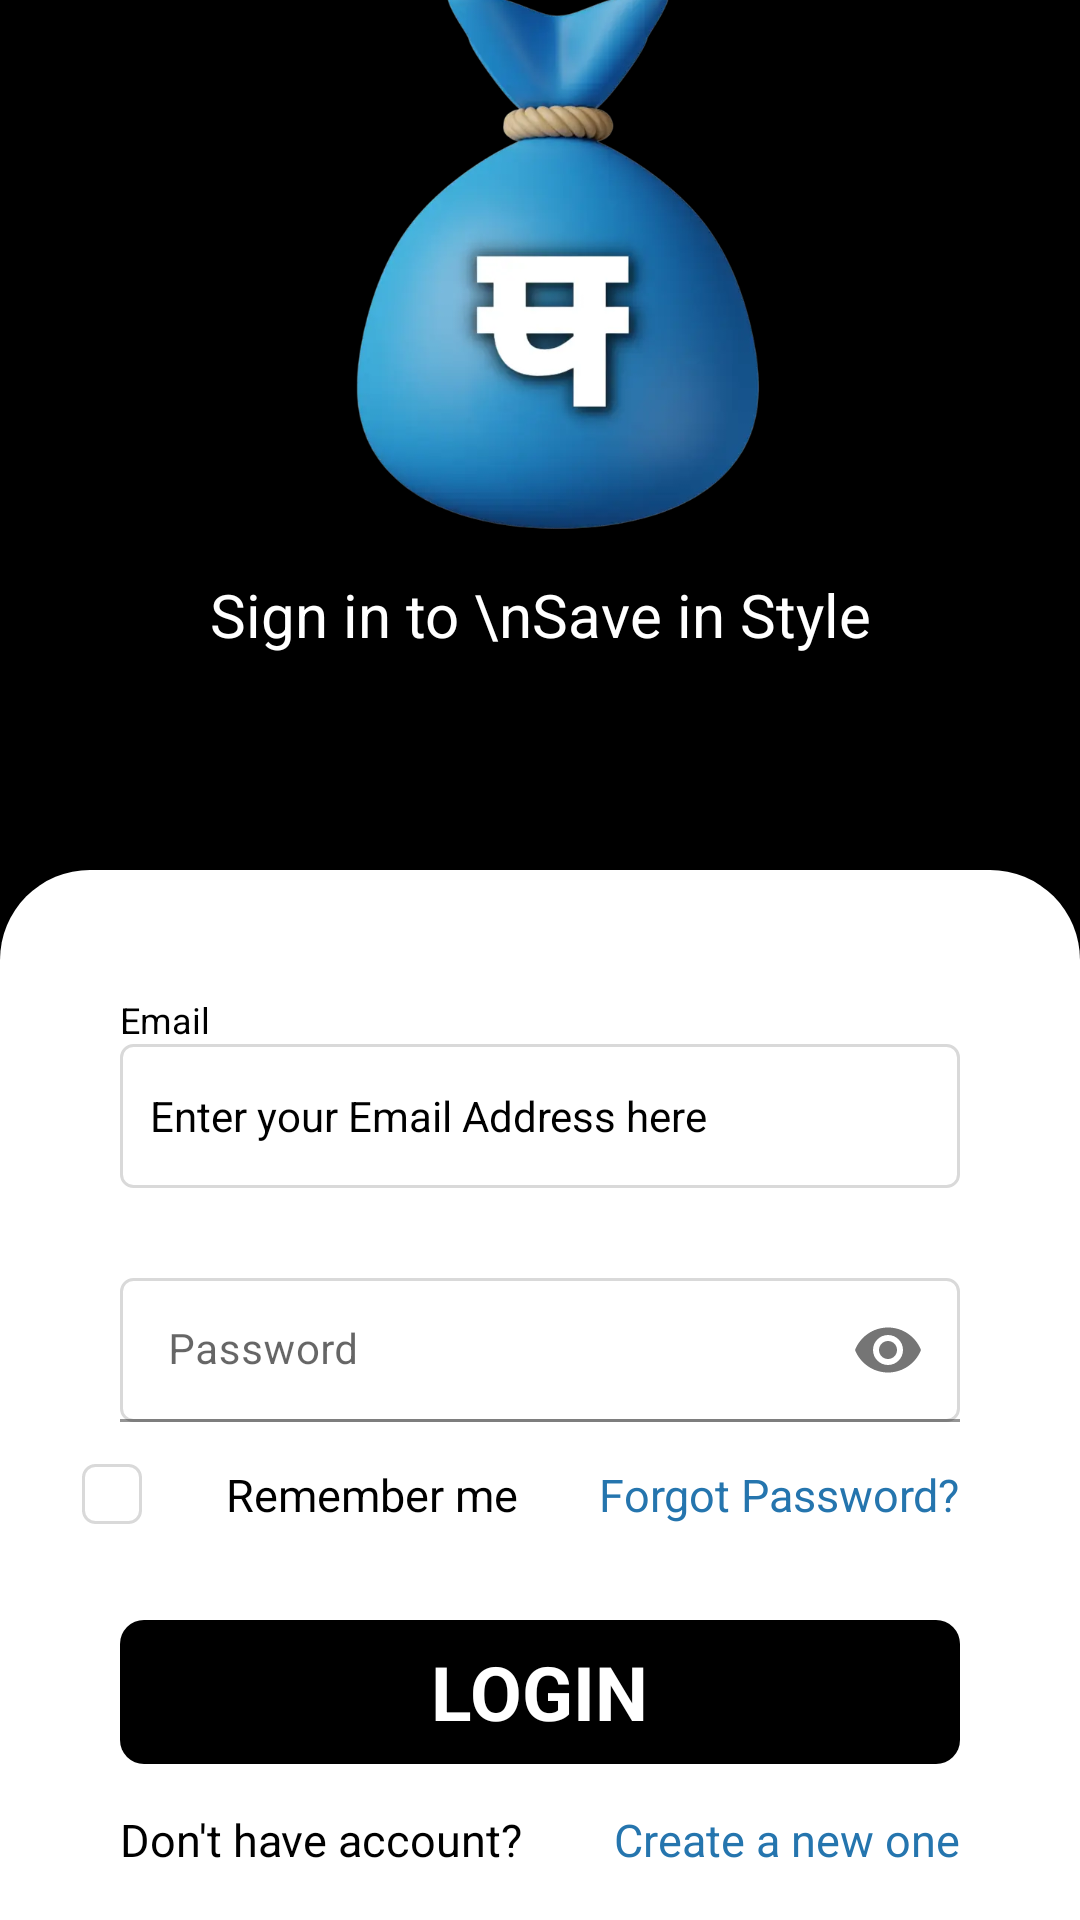

Icons on this 1080 x 1920 Android screen, each with the point to tap as (x=x, y=y):
checkbox: (x=112, y=1494)
